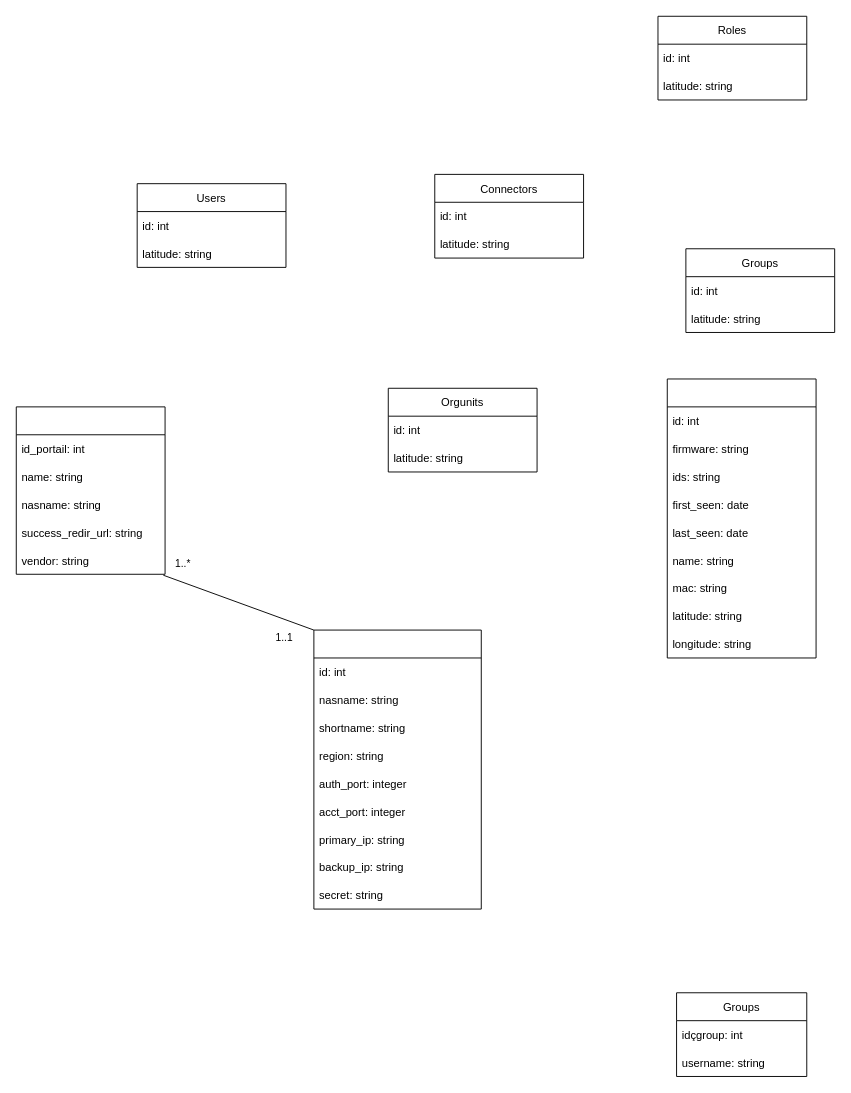
This 851x1093 diagram has some shape labels left out. The box of each missing label's shape, as (x1, y1, x2, y2) in pixels:
Network: (313, 629, 481, 909)
Node: (666, 378, 816, 658)
PortailCaptif: (15, 406, 165, 574)
